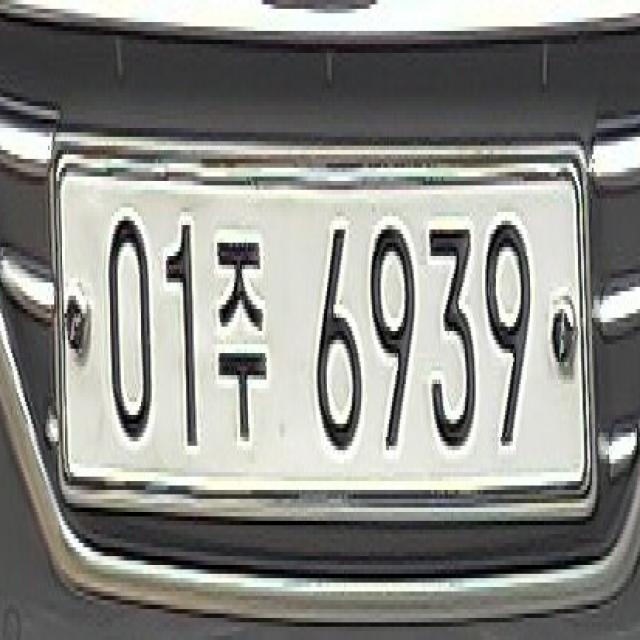0: (91, 185, 156, 470)
1: (163, 210, 206, 477)
3: (426, 210, 476, 474)
6: (308, 196, 368, 484)
9: (484, 211, 546, 468), (370, 199, 420, 470)
ju: (214, 210, 275, 468)
license_plate: (39, 118, 596, 524)
